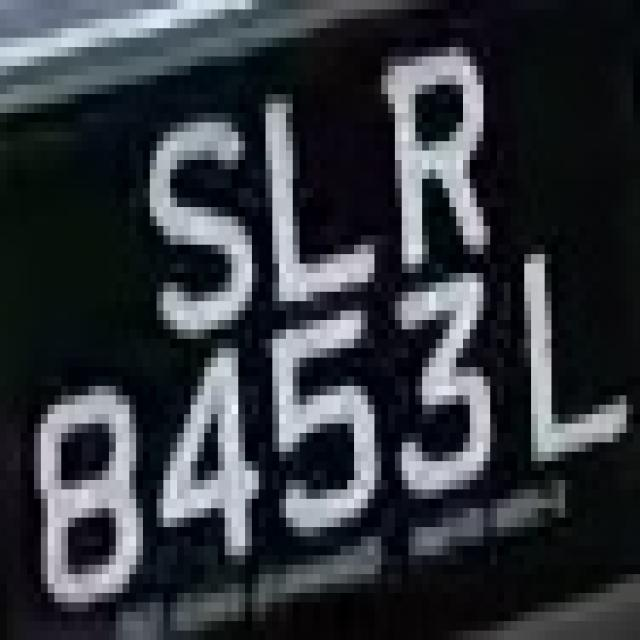3: (381, 264, 504, 527)
4: (150, 339, 279, 555)
5: (245, 310, 402, 546)
8: (20, 338, 156, 630)
L: (504, 216, 640, 480), (238, 75, 374, 311)
R: (368, 29, 518, 282)
S: (130, 94, 266, 339)
